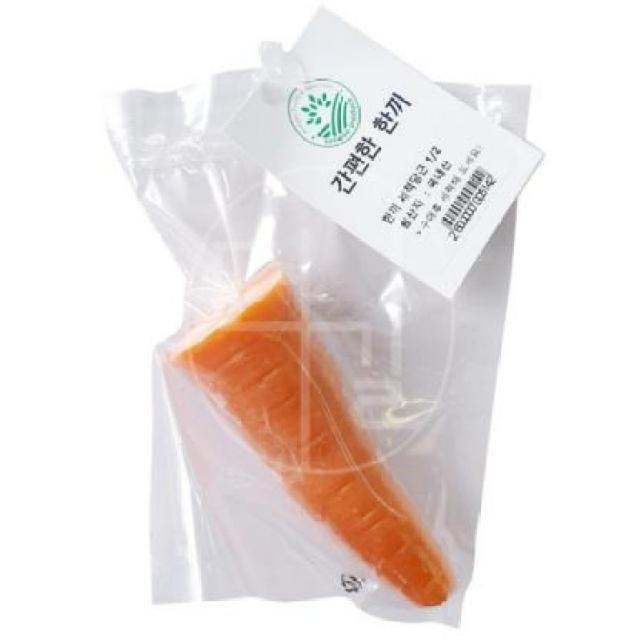carrot: (166, 264, 459, 608)
